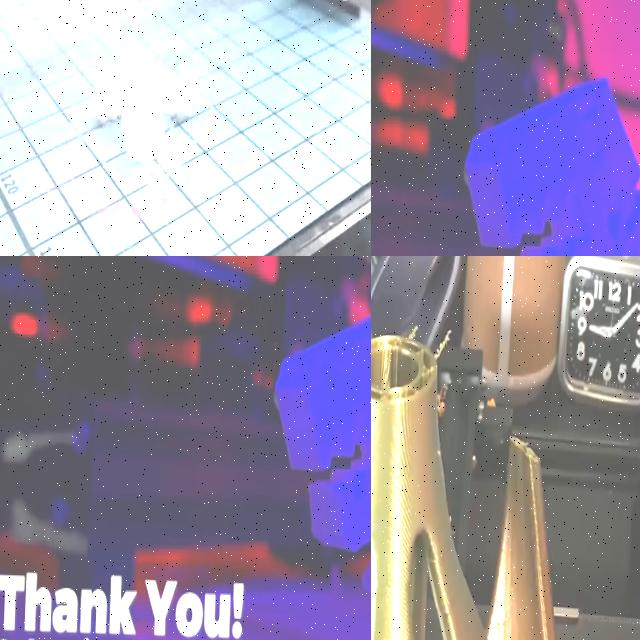spaghetti: (406, 306, 456, 366)
